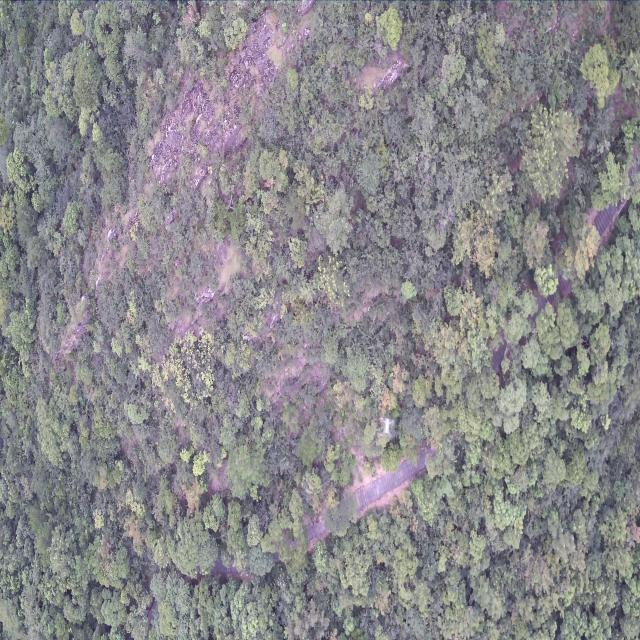UAV: (379, 415, 396, 442)
